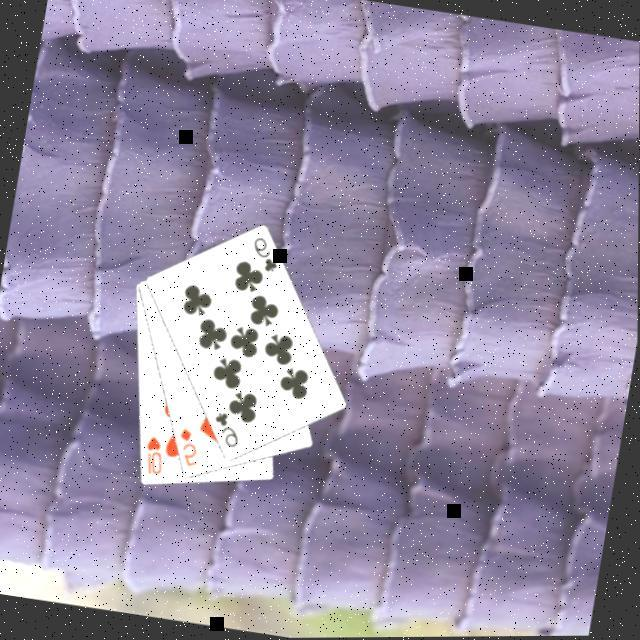10H: (140, 434, 172, 481)
5D: (174, 426, 206, 474)
9C: (247, 235, 286, 280), (208, 410, 247, 454)
